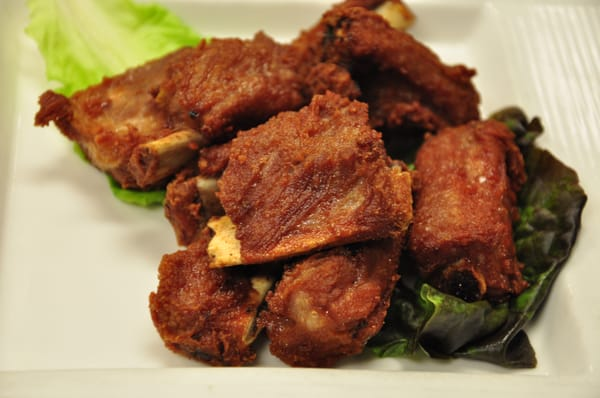soup: (31, 0, 500, 369)
